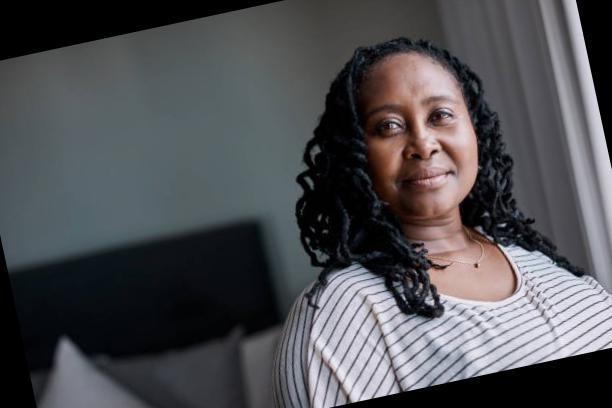Sober: (359, 59, 477, 207)
